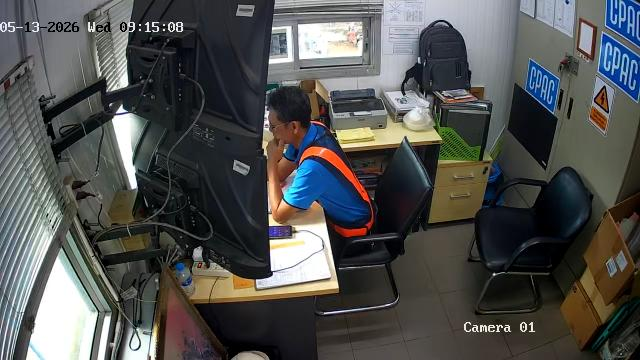Head: (266, 87, 313, 147)
People: (266, 87, 376, 237)
Phone: (268, 226, 292, 239)
